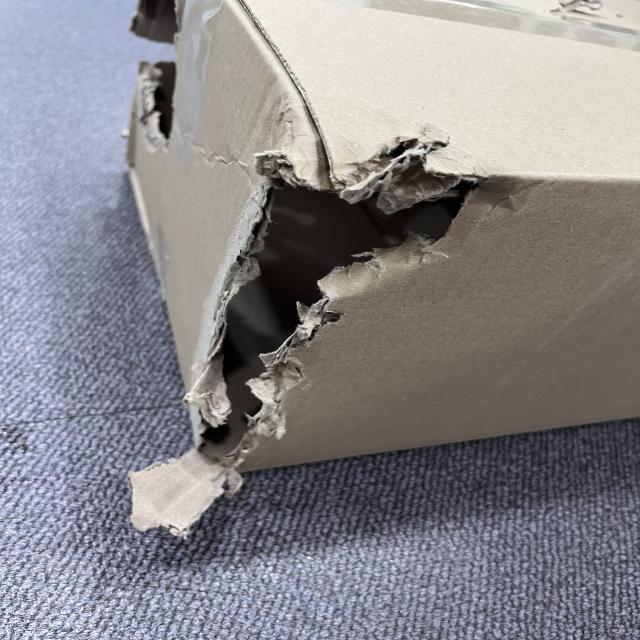hole: (198, 169, 468, 463), (114, 3, 207, 152)
